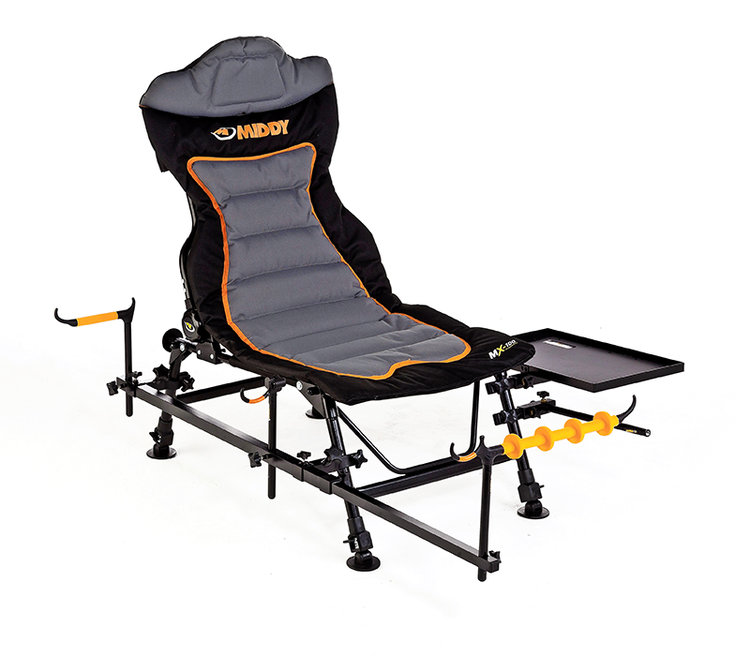chairs: (49, 36, 688, 594)
